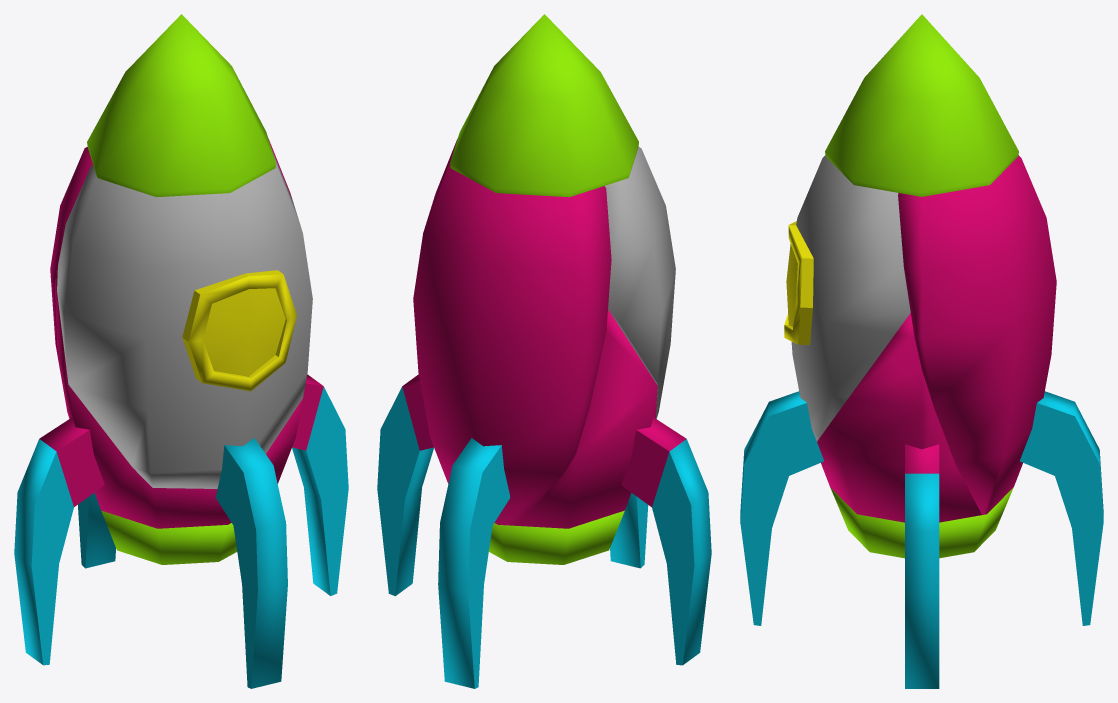
File: rocket.fbx
3 views of the same model, side by side, from view 1: azimuth 30°, elevation 25°; view 2: azimuth 150°, elevation 25°; view 3: azimuth 270°, elevation 25° (orthographic).
Visible parts, largest first — view 1: Cube.021; view 2: Cube.021; view 3: Cube.021.
Part boxes in pixels (x1,y1,x2,y2): Cube.021: (14,14,348,688); Cube.021: (377,14,711,688); Cube.021: (740,14,1103,688).
Bounding box in the file's own units: 192 × 353 × 192.
